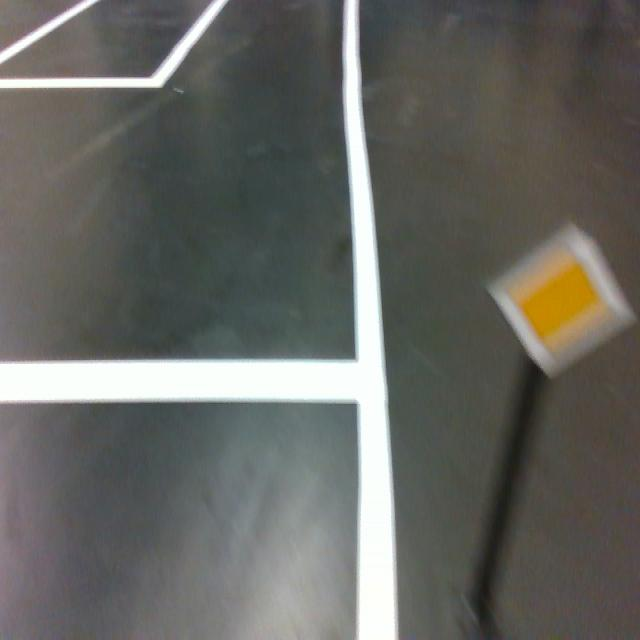priority-sign: (481, 216, 640, 383)
